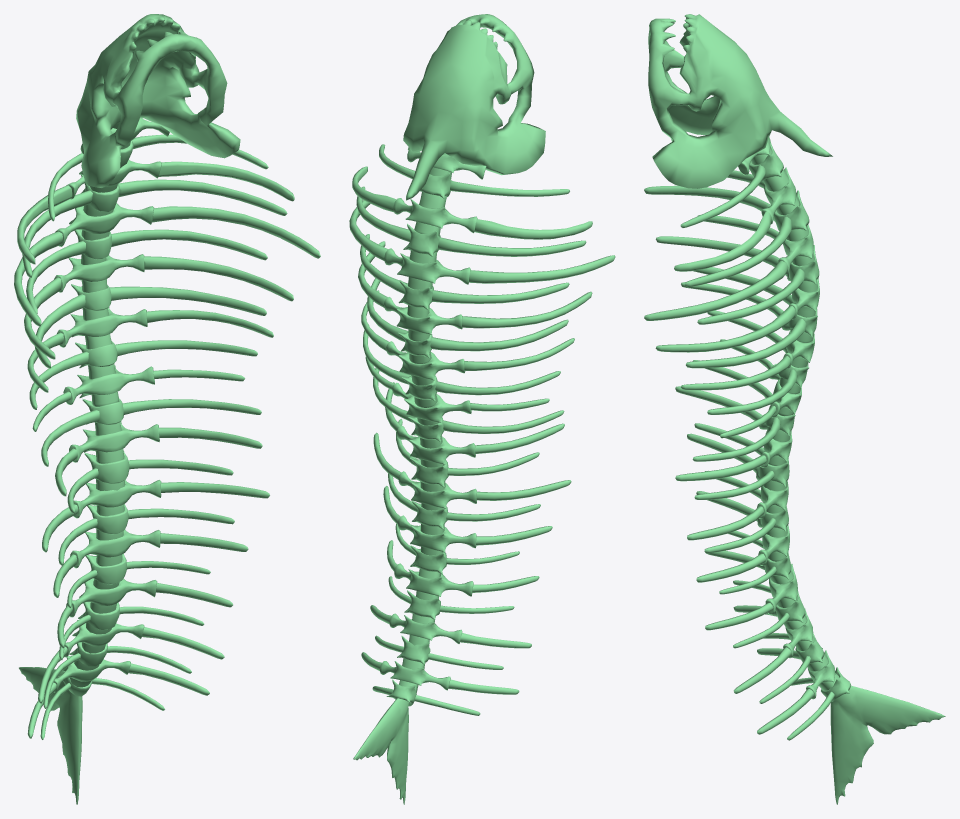
Rendered from Bone_002_1.FBX.
3 views of the same model, side by side, from view 1: azimuth 30°, elevation 25°; view 2: azimuth 150°, elevation 25°; view 3: azimuth 270°, elevation 25° (orthographic). The views are drawn at different scales.
Parts seen in each view (by area): view 1: Bone_002_1_LOD0; view 2: Bone_002_1_LOD0; view 3: Bone_002_1_LOD0.
Part boxes in pixels (bbox=[...]): Bone_002_1_LOD0: bbox=[14, 14, 320, 804]; Bone_002_1_LOD0: bbox=[349, 14, 615, 804]; Bone_002_1_LOD0: bbox=[644, 14, 945, 804].
Bounding box in the file's own units: 304 × 299 × 862.
